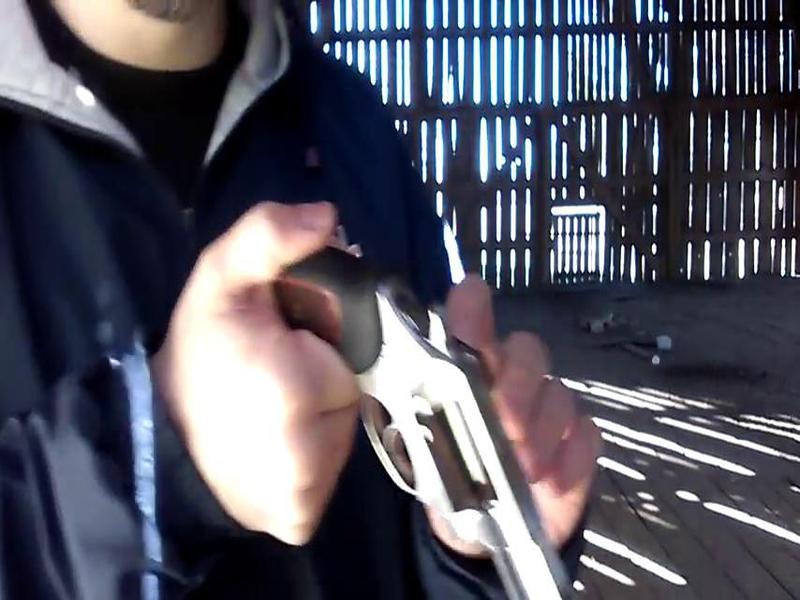Revolver: (245, 223, 602, 600)
